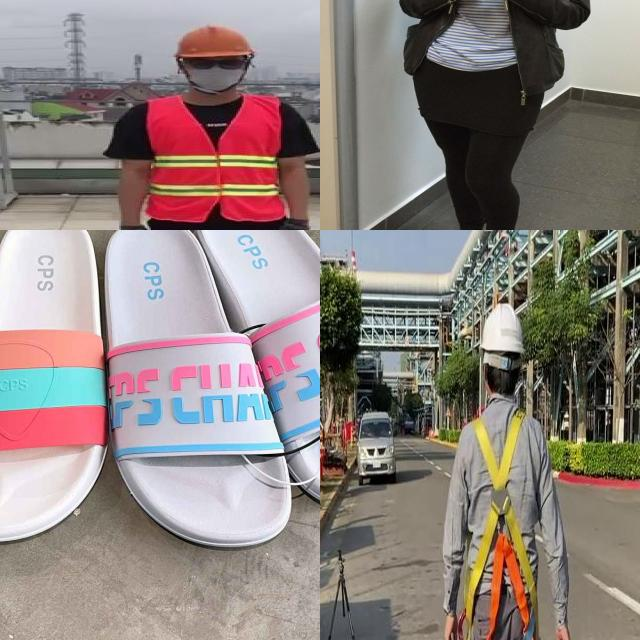Harness: (459, 482, 537, 640), (474, 412, 524, 488)
Sandals: (84, 230, 320, 554), (0, 230, 121, 573)
head_helmet: (169, 24, 256, 60)
person: (105, 23, 320, 230)
vest: (138, 98, 288, 226)
